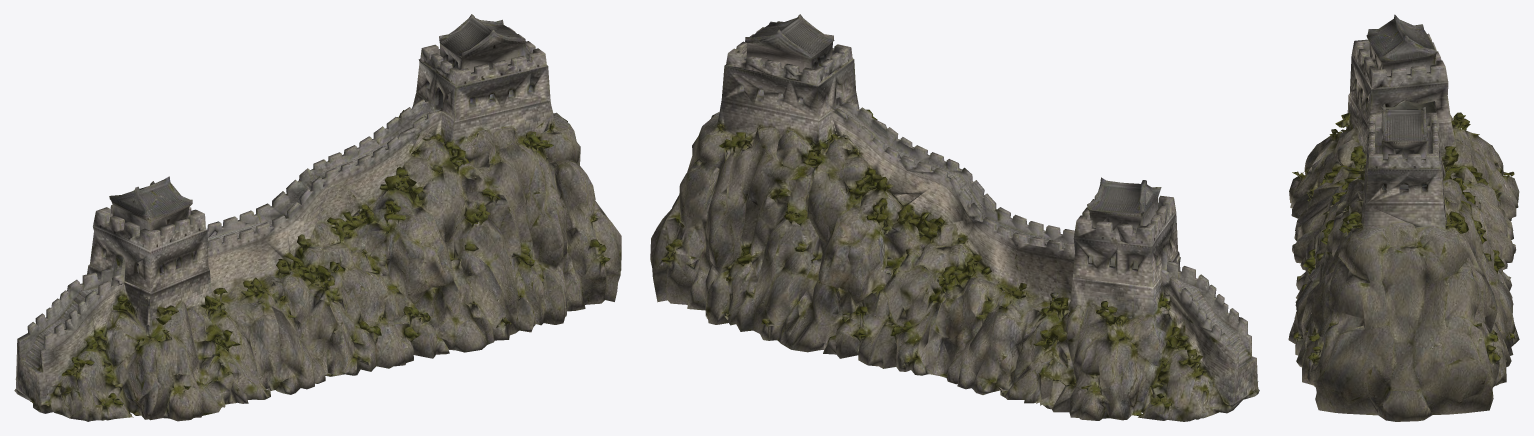
Rendered from greatwall.glb.
3 renders of one model, left to right at view 1: azimuth 30°, elevation 25°; view 2: azimuth 150°, elevation 25°; view 3: azimuth 270°, elevation 25°, orthographic. The views are drawn at different scales.
Bounding box in the file's own units: 1.89 × 0.8535 × 0.683.
Materials: 1 (1 with a texture image).
